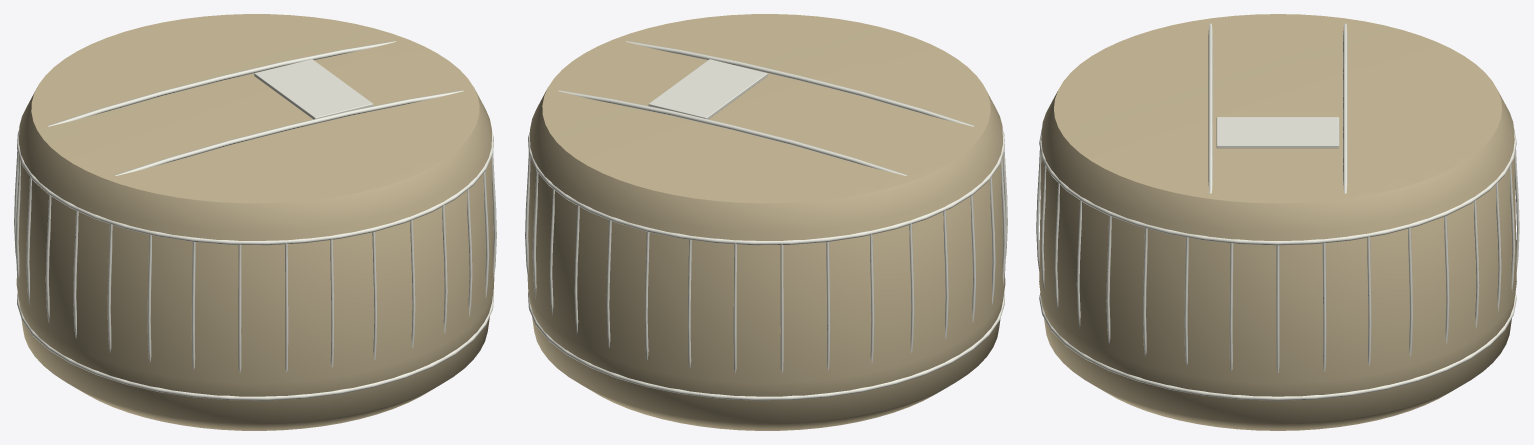
File: cheesemaking-and-dairy-cellar-clothbound-cheese-wheel-5ec2f350__30894.glb
The picture shows the model from 3 angles, left to right: view 1: azimuth 30°, elevation 25°; view 2: azimuth 150°, elevation 25°; view 3: azimuth 270°, elevation 25°; orthographic projection.
Visible parts, largest first — view 1: clothbound-cheese-wheel; view 2: clothbound-cheese-wheel; view 3: clothbound-cheese-wheel.
Part boxes in pixels (x1,y1,x2,y2): clothbound-cheese-wheel: [14, 14, 496, 430]; clothbound-cheese-wheel: [525, 14, 1007, 430]; clothbound-cheese-wheel: [1036, 14, 1519, 430].
Bounding box in the file's own units: 0.3947 × 0.2179 × 0.3947.
